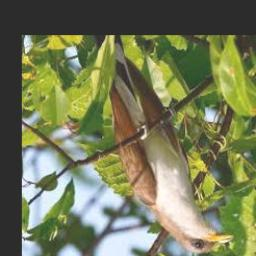Cuckoo: (101, 35, 232, 256)
